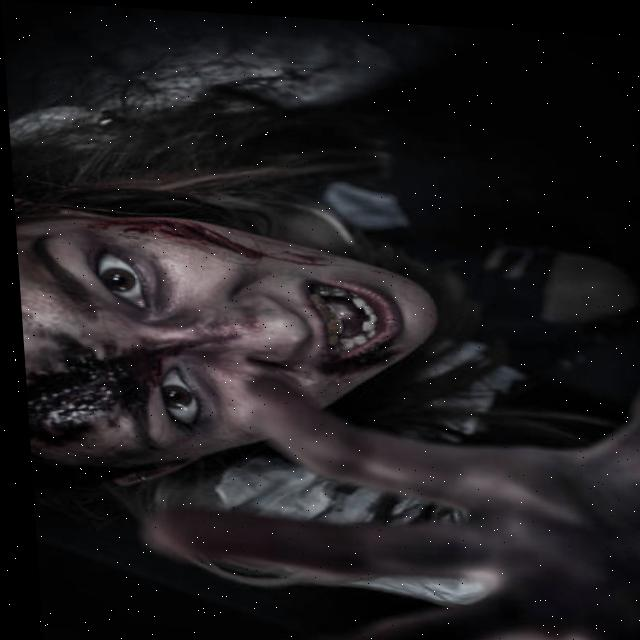Zombie: (10, 195, 462, 476)
